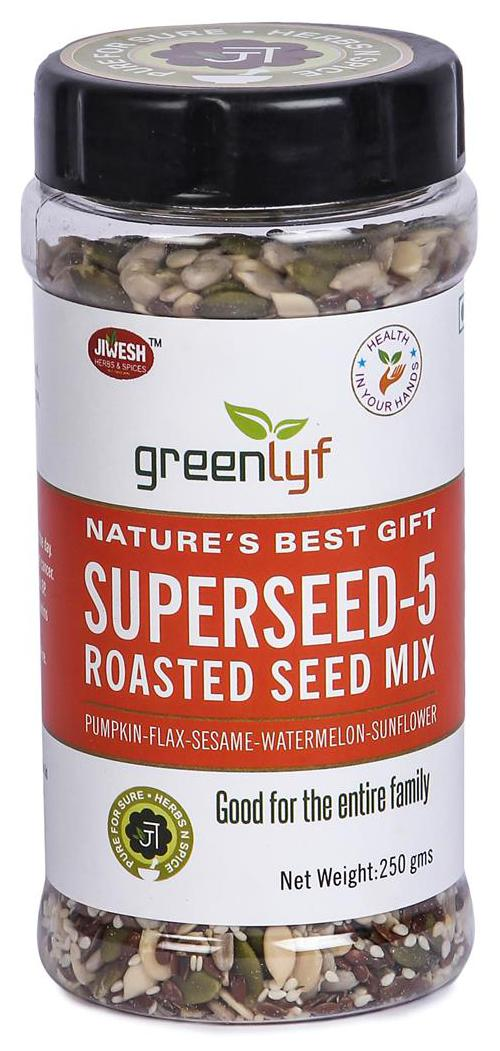JAR: (11, 13, 487, 1030)
